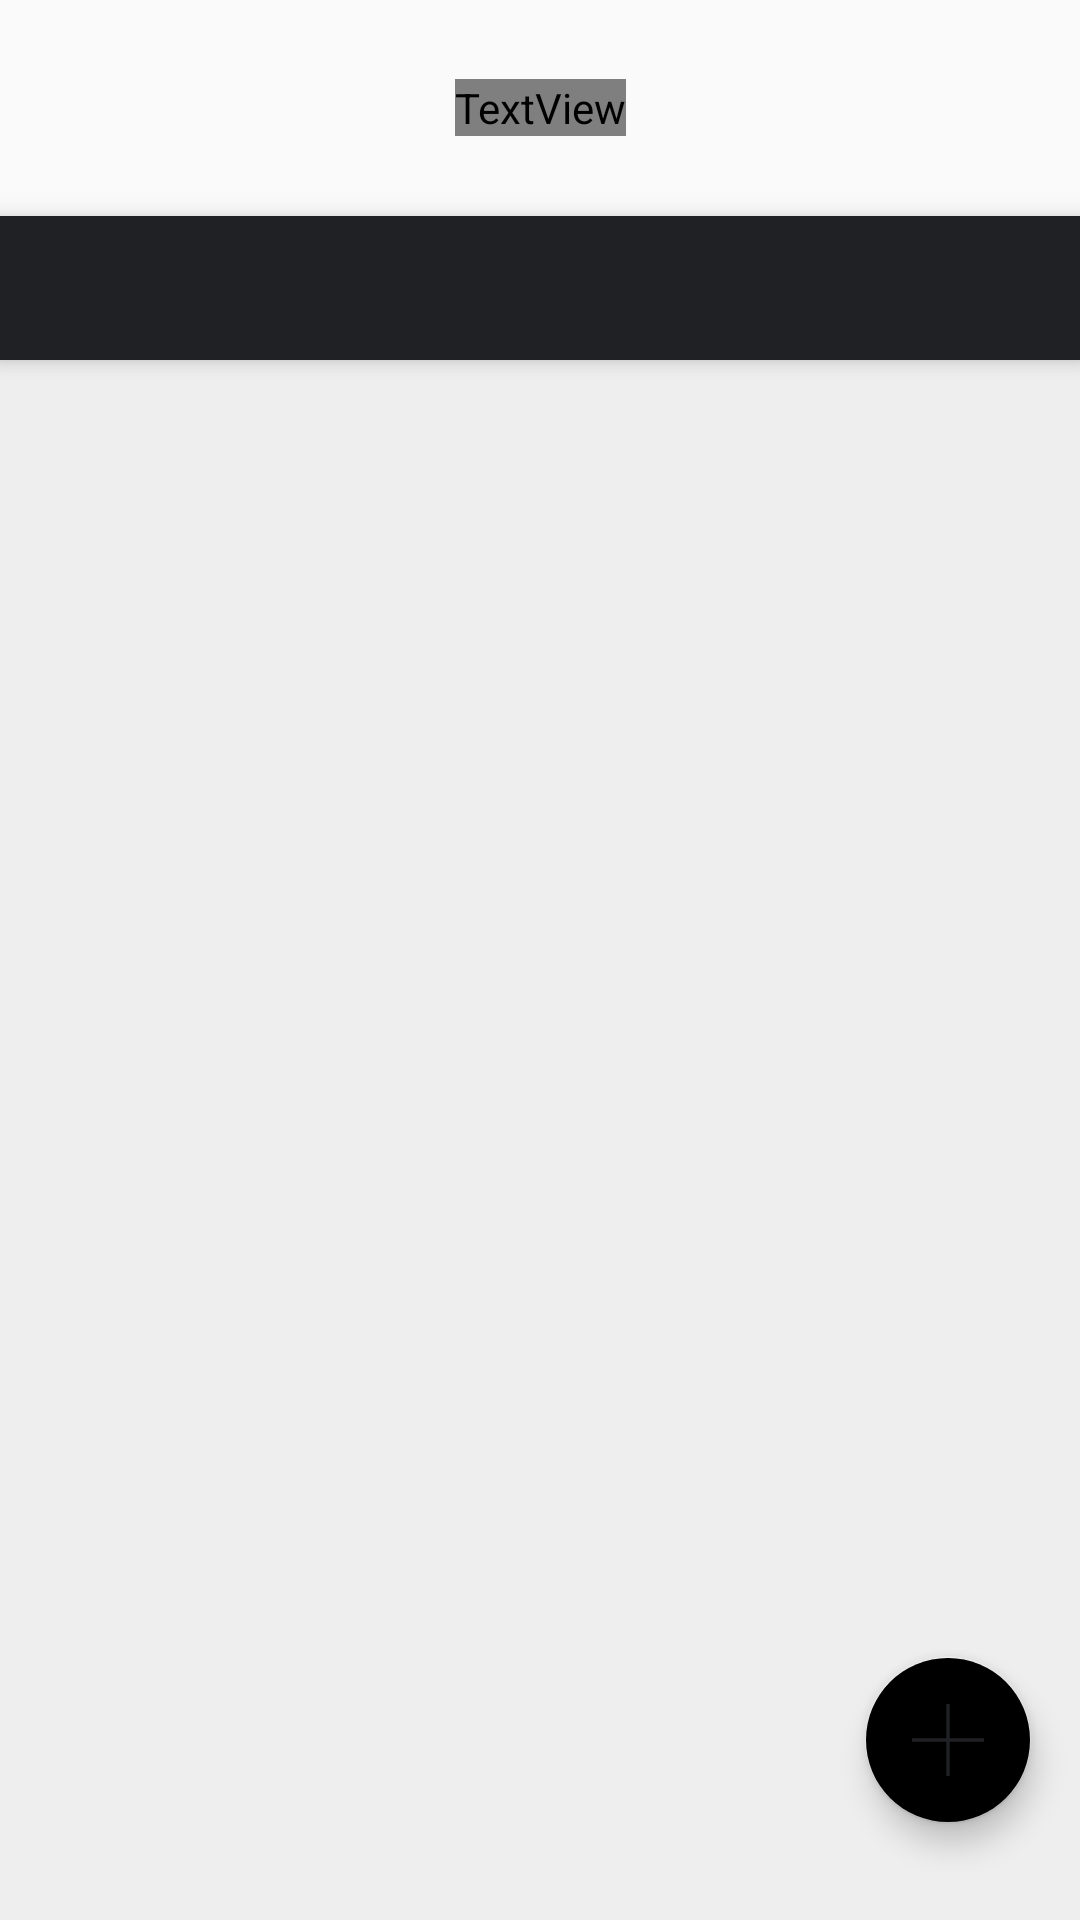

Icons on this 1080w x 1920h Android screen, each with the point to tap as point (x, y):
add: point (949, 1741)
